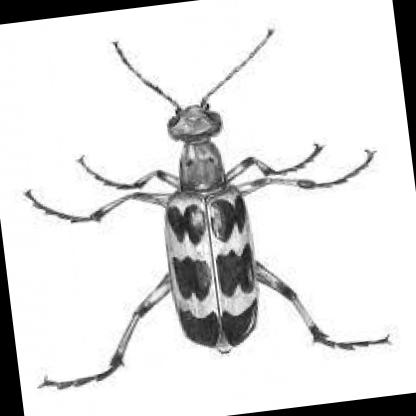blister beetle: (41, 34, 389, 389)
